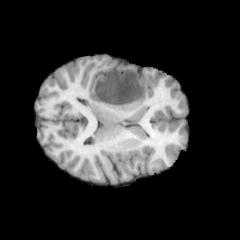glioma: (88, 69, 146, 106)
